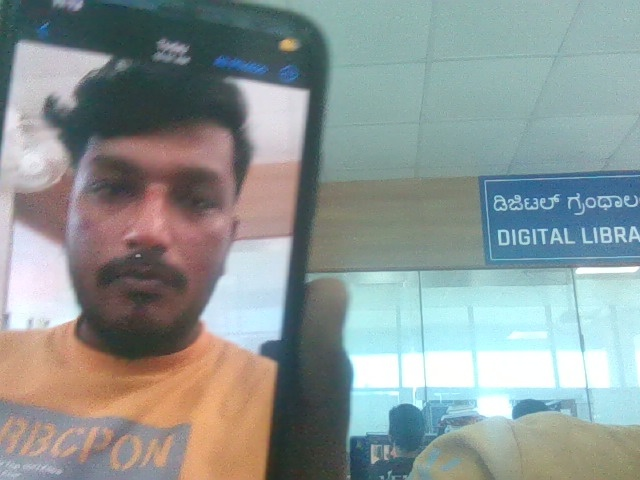fake: (37, 32, 269, 361)
